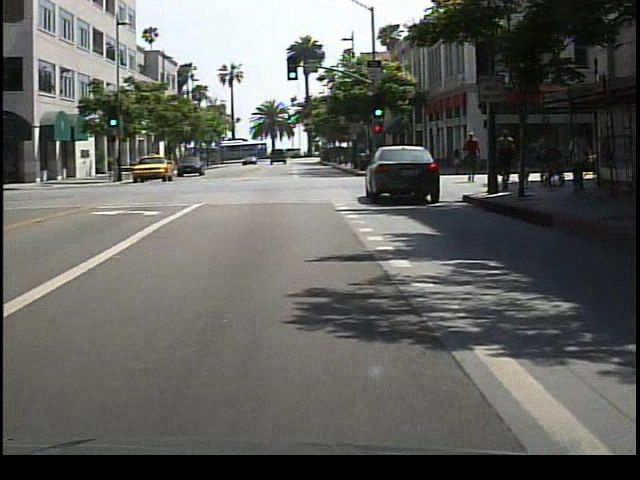person: (462, 131, 487, 189)
